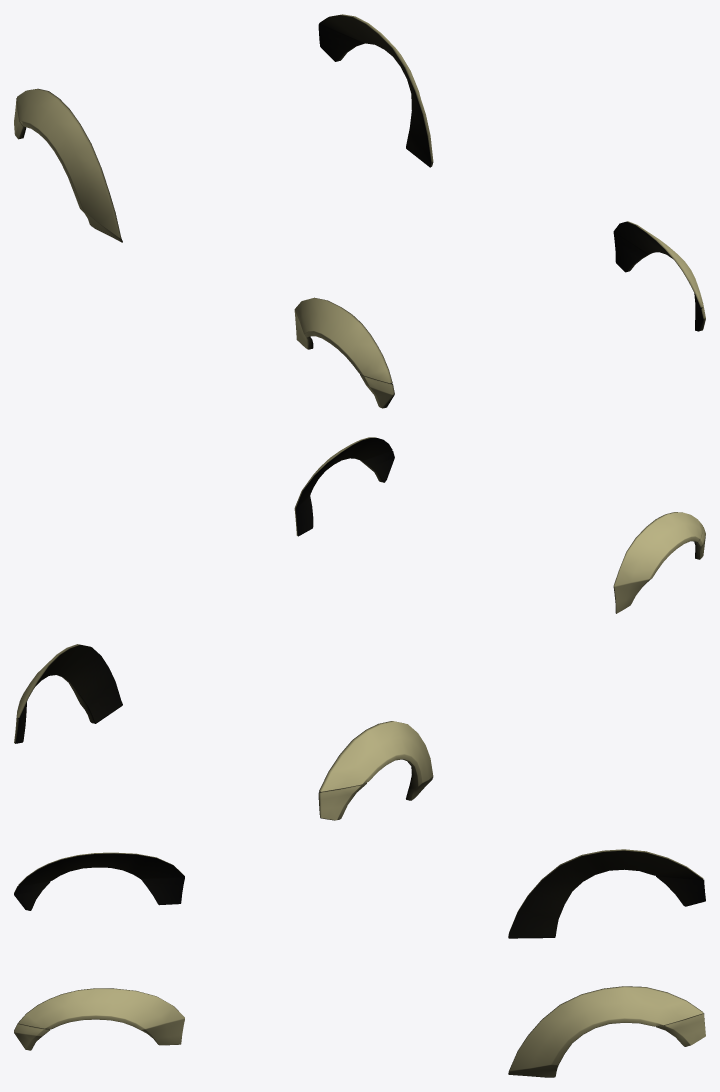
Rendered from G37_Fender_05_Duco.fbx.
3 views of the same model, one above another, from view 1: azimuth 30°, elevation 25°; view 2: azimuth 150°, elevation 25°; view 3: azimuth 270°, elevation 25° (orthographic). The views are drawn at different scales.
Visible parts, largest first — view 1: G37_Fender_05_Duco; view 2: G37_Fender_05_Duco; view 3: G37_Fender_05_Duco.
Part boxes in pixels (x1=…): G37_Fender_05_Duco: x1=14, y1=14, x2=705, y2=408; G37_Fender_05_Duco: x1=14, y1=437, x2=705, y2=820; G37_Fender_05_Duco: x1=14, y1=849, x2=705, y2=1077.
Bounding box in the file's own units: 197 × 52.36 × 372.
